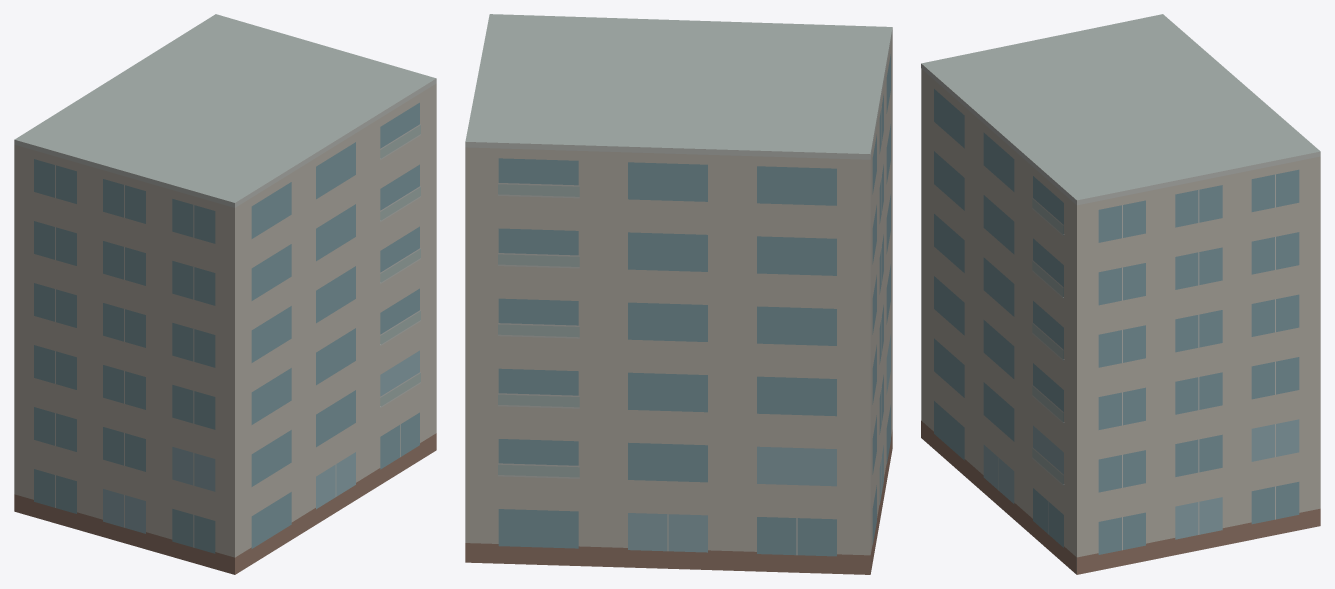
File: survey-upis-32708864.glb
3 renders of one model, left to right at view 1: azimuth 30°, elevation 25°; view 2: azimuth 150°, elevation 25°; view 3: azimuth 270°, elevation 25°, orthographic. The views are drawn at different scales.
Visible parts, largest first — view 1: survey-upis-32708864.tmp; view 2: survey-upis-32708864.tmp; view 3: survey-upis-32708864.tmp.
Part boxes in pixels (x1,y1,x2,y2): survey-upis-32708864.tmp: (14,14,436,574); survey-upis-32708864.tmp: (465,14,892,574); survey-upis-32708864.tmp: (921,14,1320,574).
Size of the model in its own units: 19.55 by 18.3 by 17.71.
